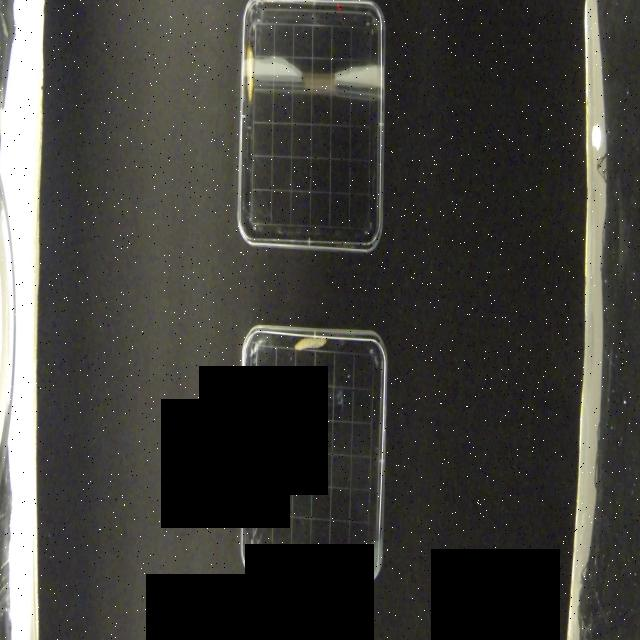larva: (246, 44, 263, 100), (294, 337, 329, 355)
